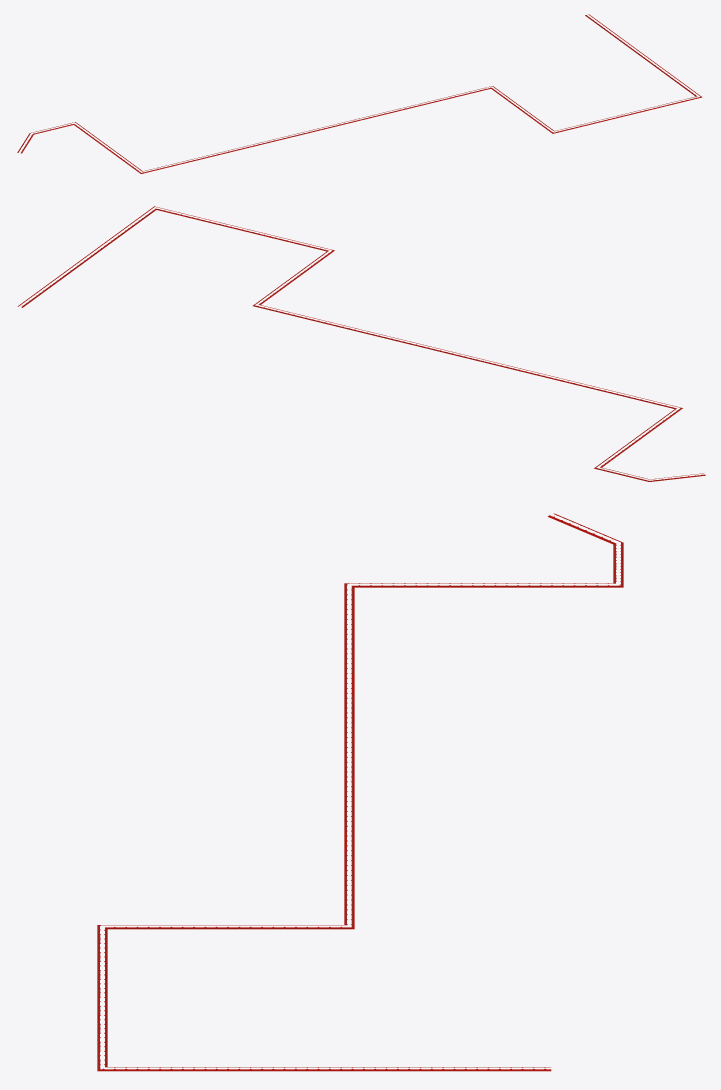
File: UnlockPipe_3.fbx
3 renders of one model, top to bottom at view 1: azimuth 30°, elevation 25°; view 2: azimuth 150°, elevation 25°; view 3: azimuth 270°, elevation 25°, orthographic. The views are drawn at different scales.
Visible parts, largest first — view 1: extrudedSurface2; view 2: extrudedSurface2; view 3: extrudedSurface2.
Part boxes in pixels (x1,y1,x2,y2): extrudedSurface2: (17,14,702,173); extrudedSurface2: (17,206,705,481); extrudedSurface2: (97,513,623,1071).
Size of the model in its own units: 59.27 by 0.1482 by 24.
Materials: 1 (1 with a texture image).
